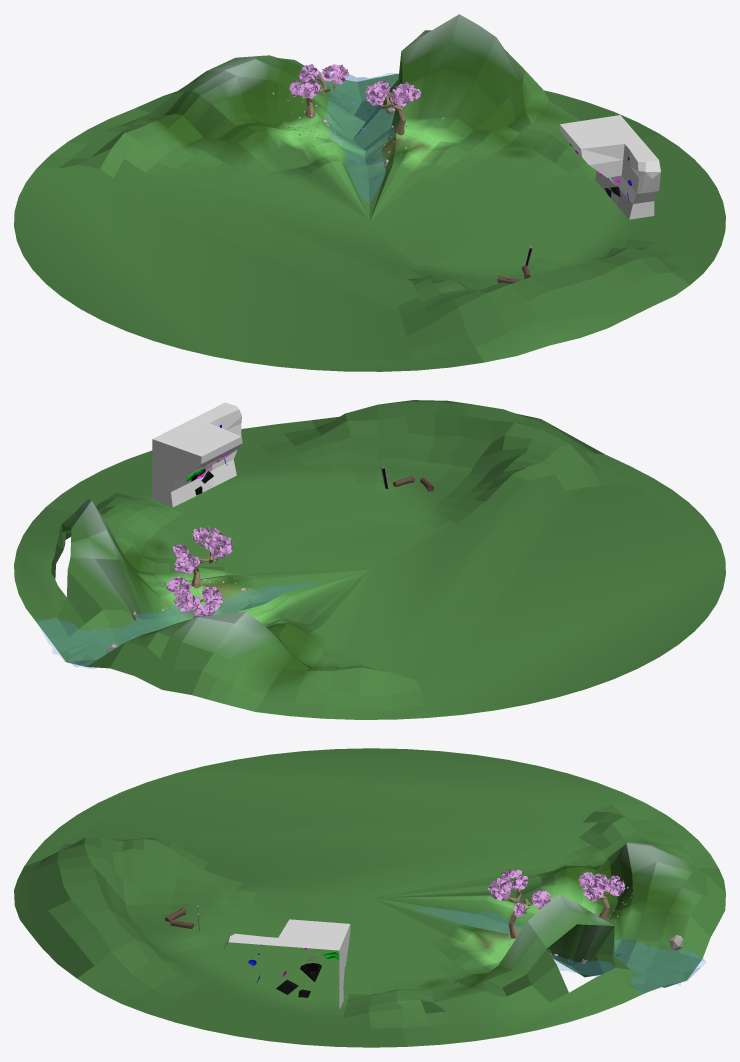
The picture shows the model from 3 angles, top to bottom: view 1: azimuth 30°, elevation 25°; view 2: azimuth 150°, elevation 25°; view 3: azimuth 270°, elevation 25°; orthographic projection.
Parts seen in each view (by area): view 1: Circle, Cube.002, Plane.002; view 2: Circle, Cube.002, Plane.002; view 3: Circle, Plane.002, Cube.002.
Part boxes in pixels (x1,y1,x2,y2): Circle: [14, 14, 725, 371]; Cube.002: [560, 115, 660, 219]; Plane.002: [326, 73, 398, 203]; Circle: [14, 400, 725, 719]; Cube.002: [152, 402, 242, 507]; Plane.002: [36, 583, 318, 669]; Circle: [14, 748, 725, 1047]; Plane.002: [415, 908, 705, 993]; Cube.002: [223, 919, 350, 1009].
Bounding box in the file's own units: 35.09 × 7.25 × 35.28.
12 materials, 1 textured.
